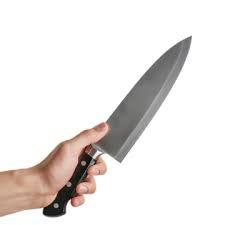Knife: (42, 34, 192, 216)
